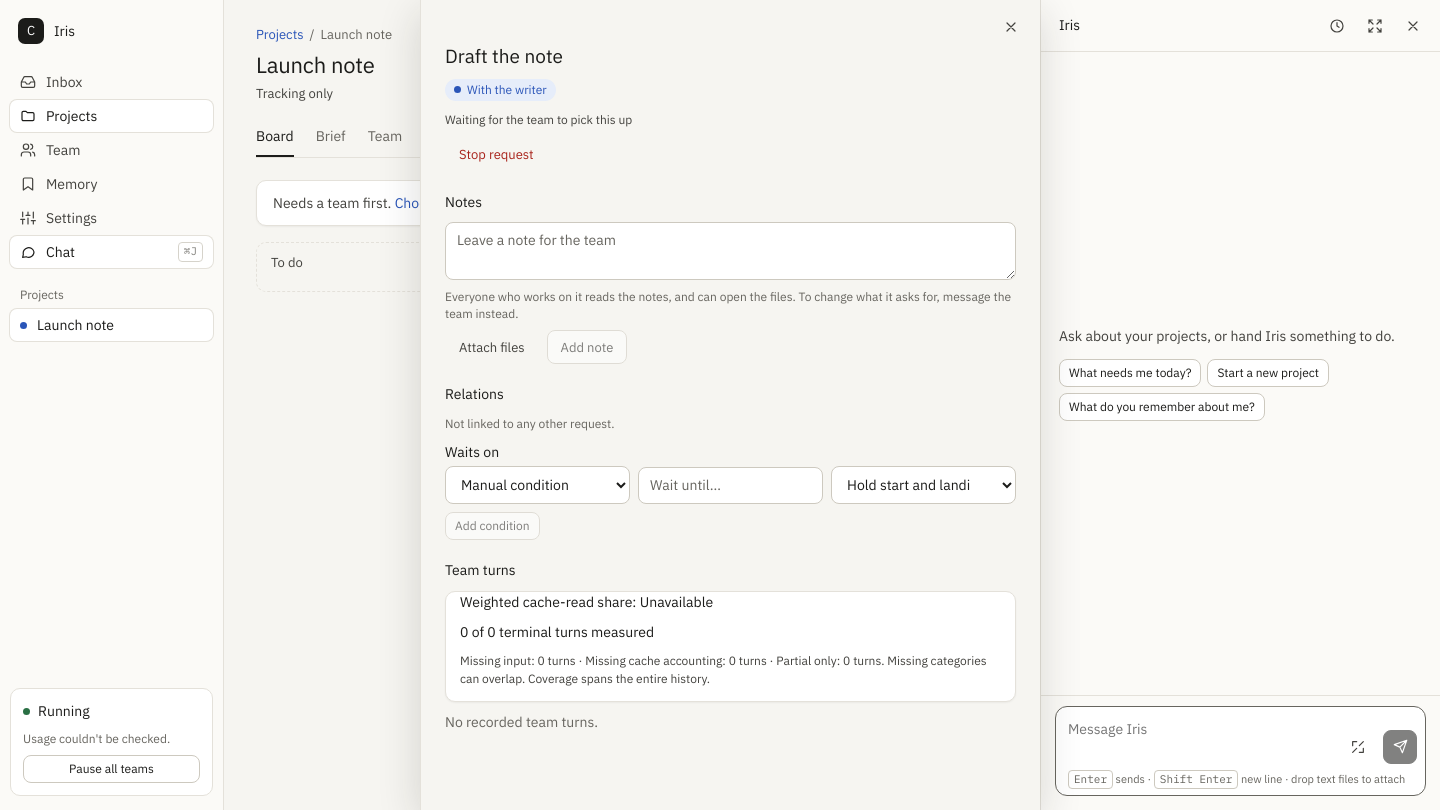
the shell › keeps an open request and the chat's focus and draft across refreshes
Type "Also mention pric" into the text box labelled "Message Iris" at coordinates (1200, 740), box [1068,715,1333,764]
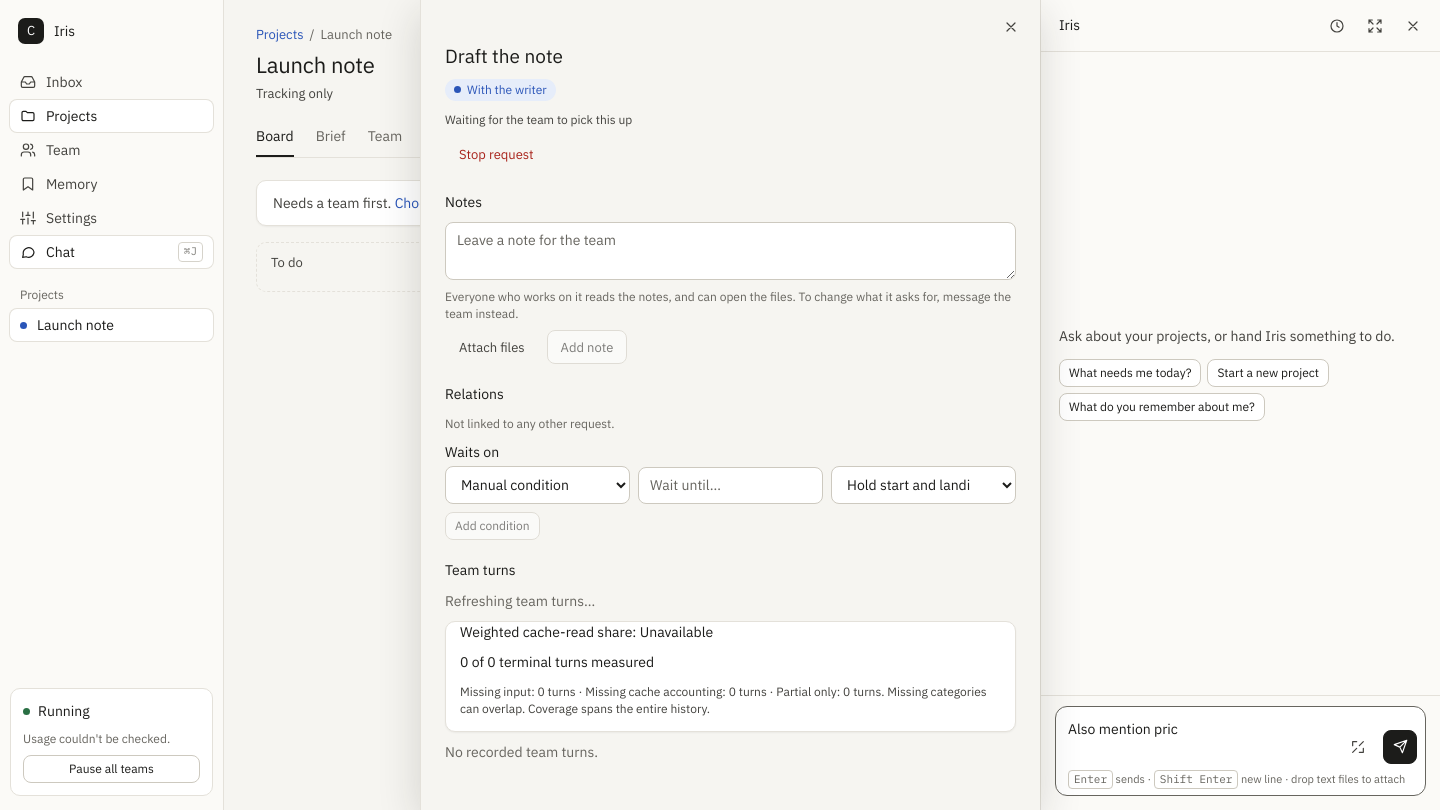
Click the button named "Write in a larger space" at coordinates (1358, 747), box [1341,730,1375,764]
Wait 5000 ms
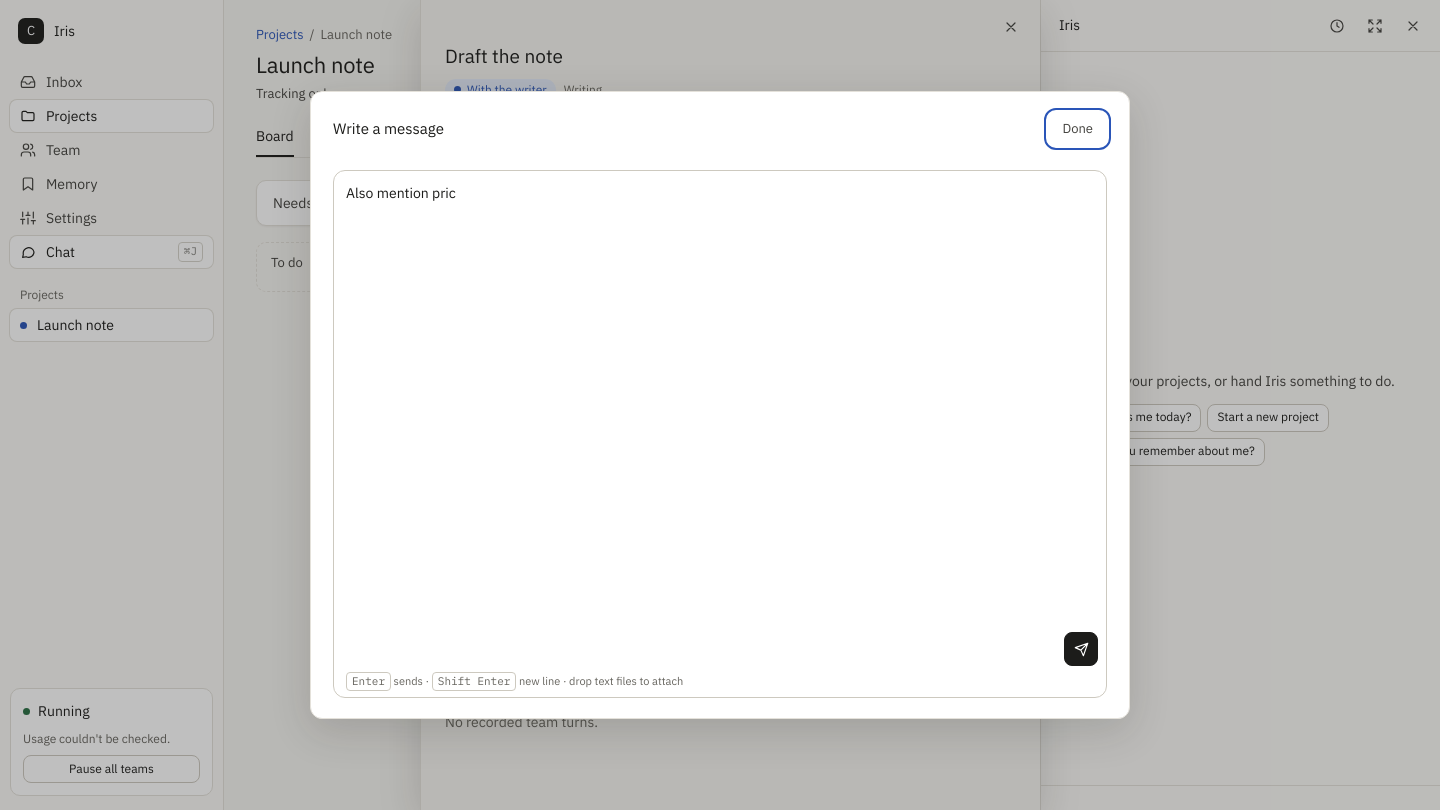
Press Escape in the button "Done", box [1048,112,1107,146]
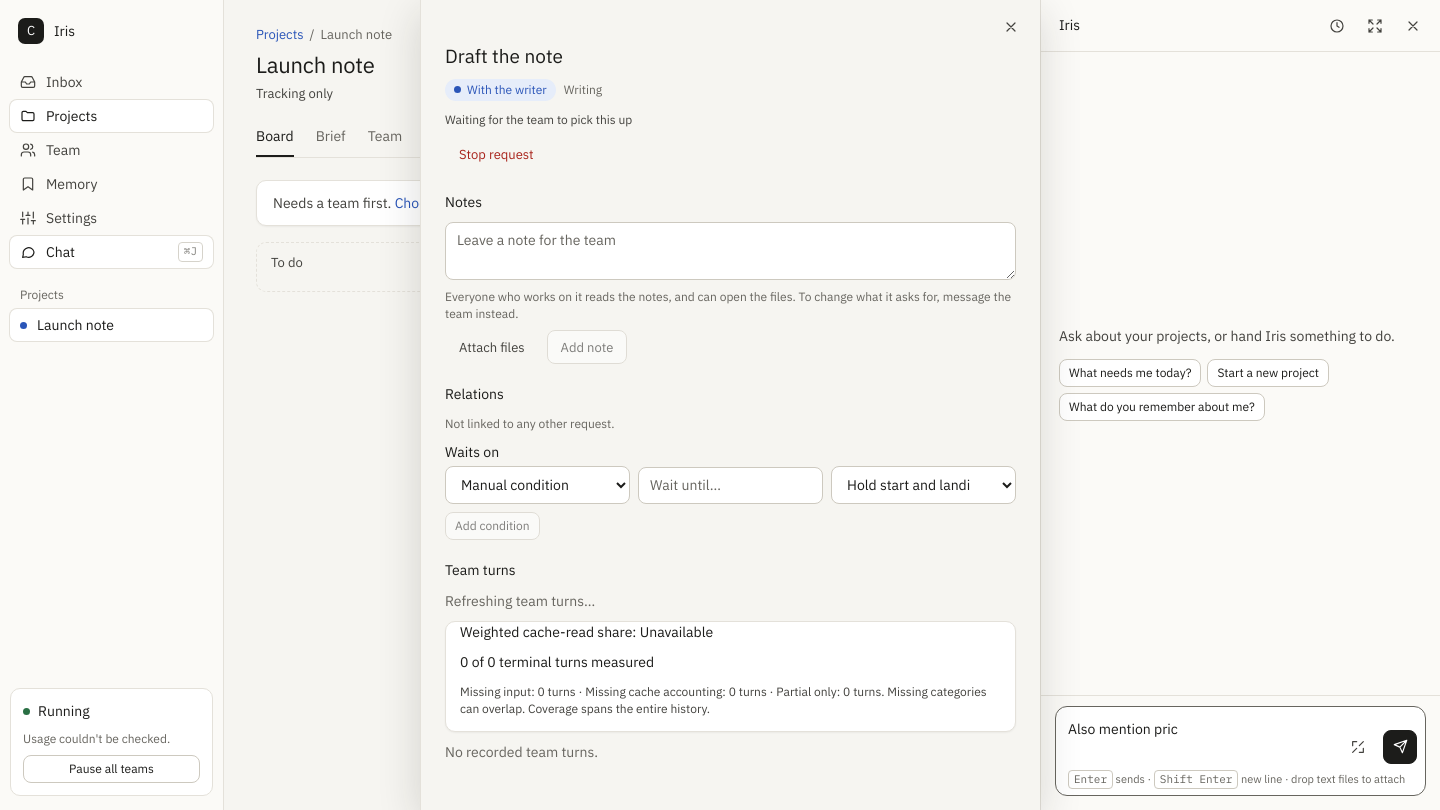
expect the text box named "Message Iris" holds "Also mention pric": met
// Keys meant for the draft never reach the request.
Press Space in the text box named "Message Iris", box [1068,715,1333,764]
Press Escape in the text box named "Message Iris", box [1068,715,1333,764]
Replace the text in the text box named "Message Iris" with "Also mention pricing" at coordinates (1200, 740), box [1068,715,1333,764]
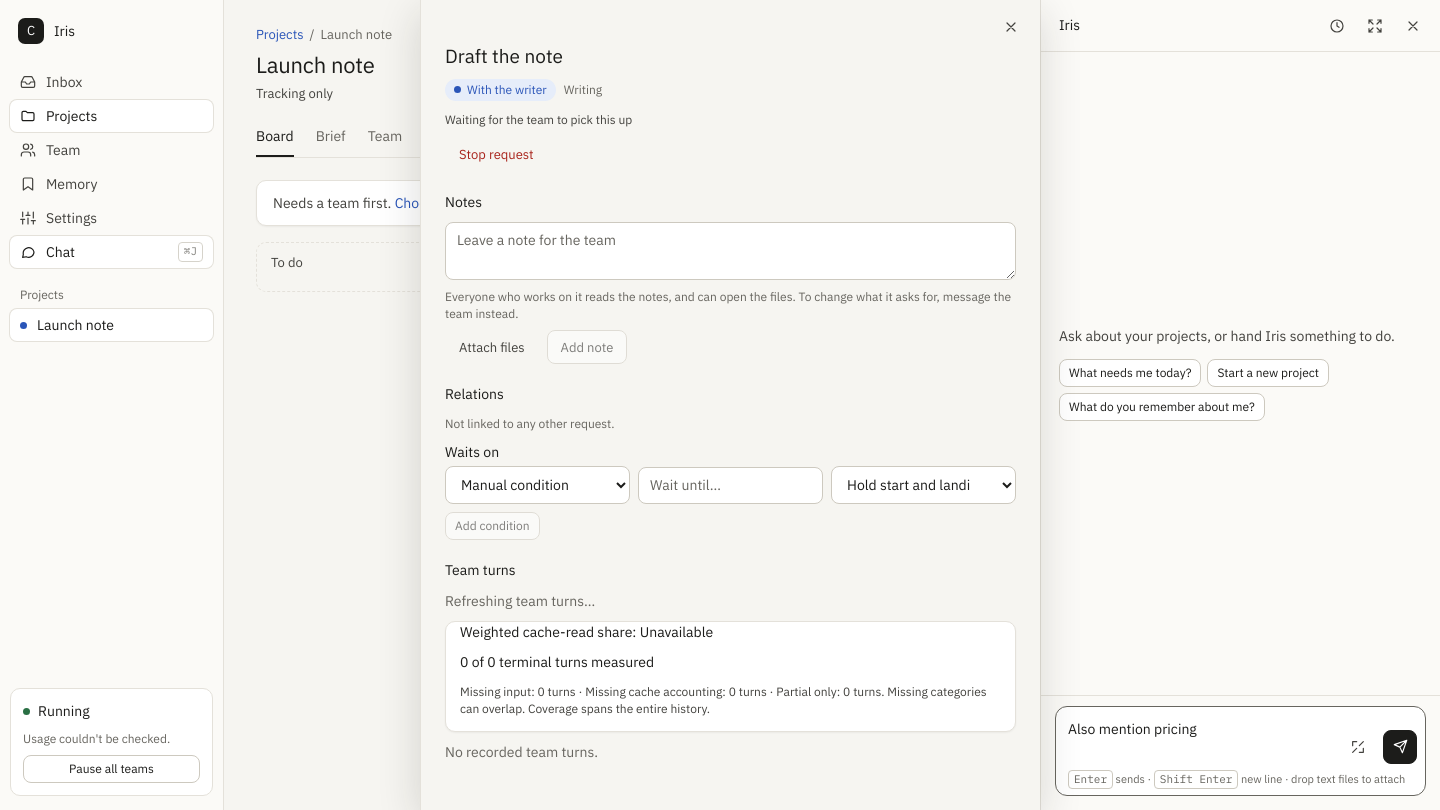
Click the button named "Close" at coordinates (1011, 27), box [994,10,1028,44]
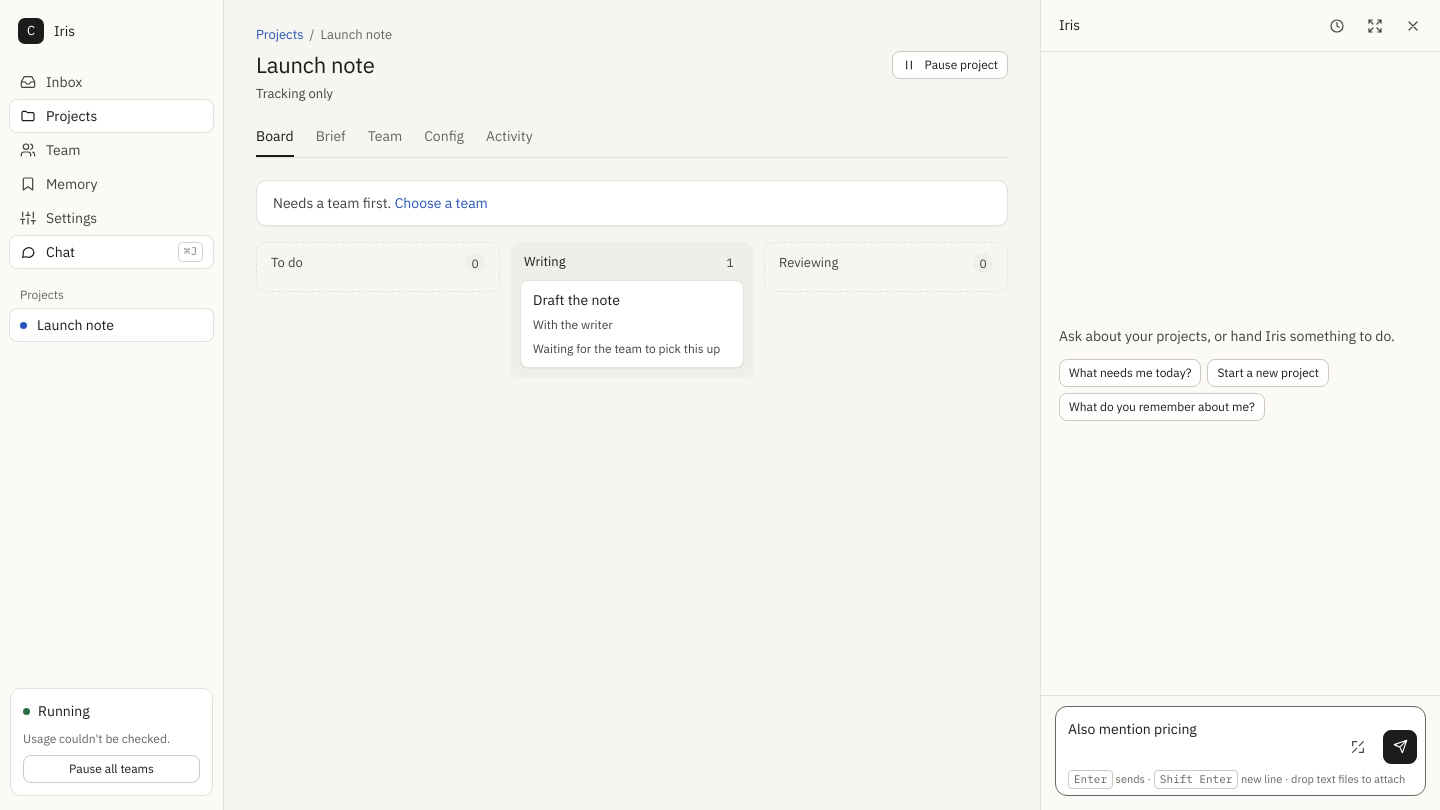
Click the link "Draft the note" at coordinates (576, 300), box [533,291,620,309]
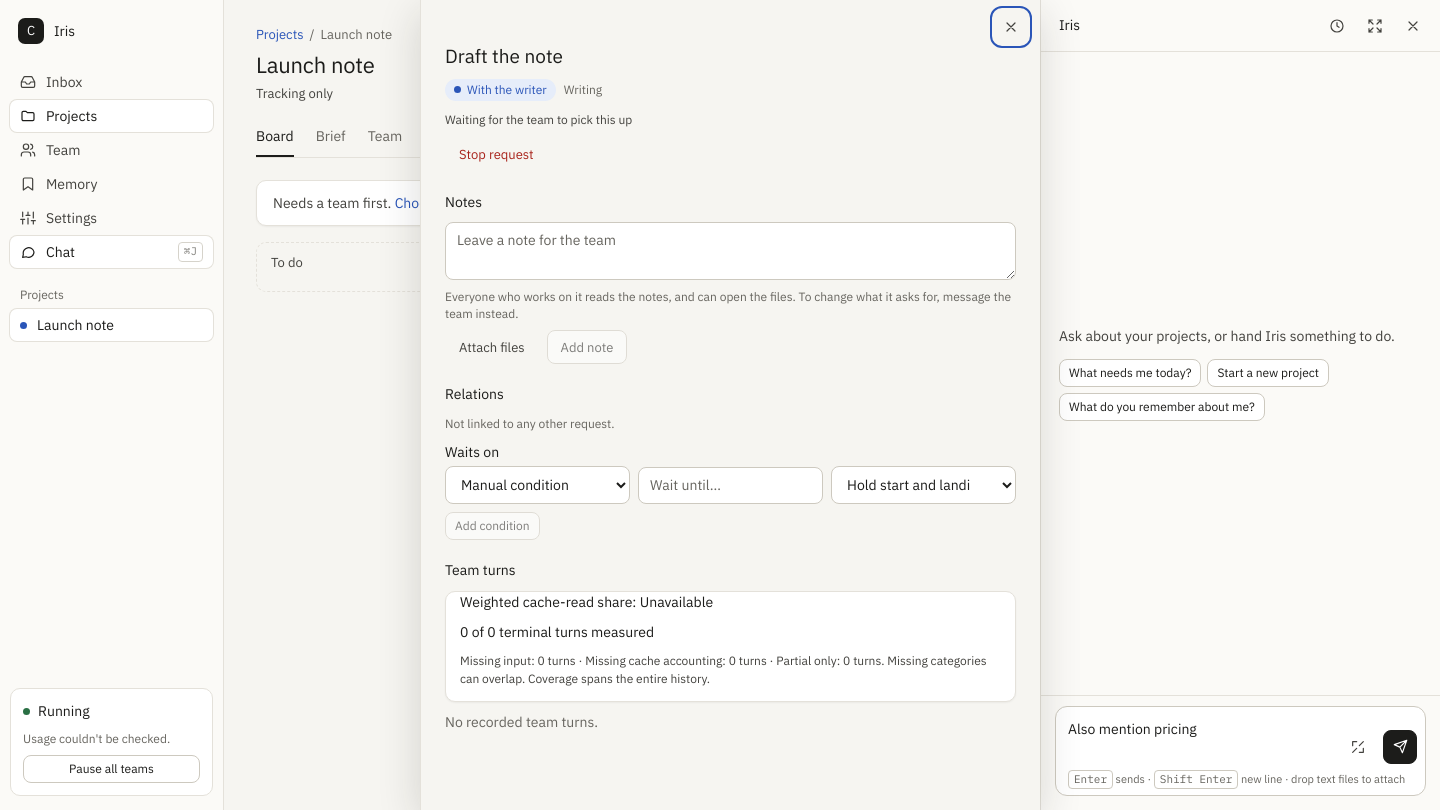
expect the element "Draft the note" is shown: met, box [420,0,1040,809]
